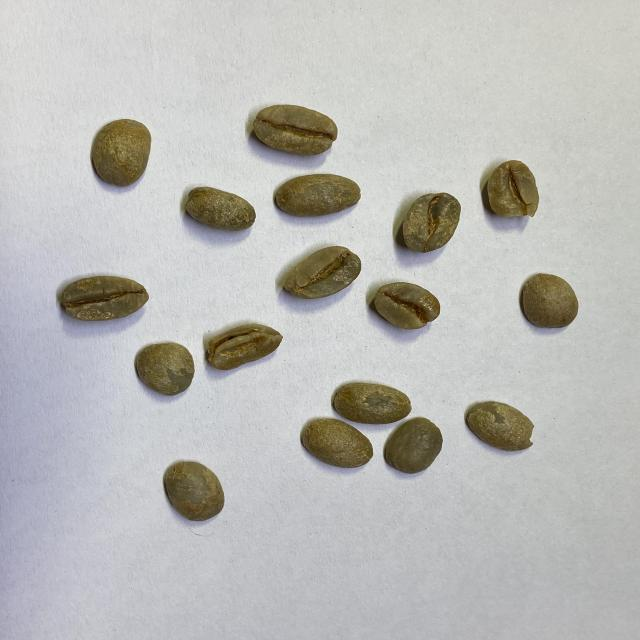bad: (204, 322, 285, 372), (400, 190, 462, 253), (466, 398, 536, 453), (486, 158, 541, 221)
good: (59, 272, 151, 326), (251, 104, 339, 157), (280, 245, 362, 298), (90, 118, 152, 188), (299, 417, 376, 470), (273, 174, 361, 220), (164, 458, 224, 524), (383, 416, 446, 476), (331, 379, 411, 424), (521, 271, 580, 330), (186, 185, 256, 234), (374, 280, 440, 330), (136, 341, 194, 397)
